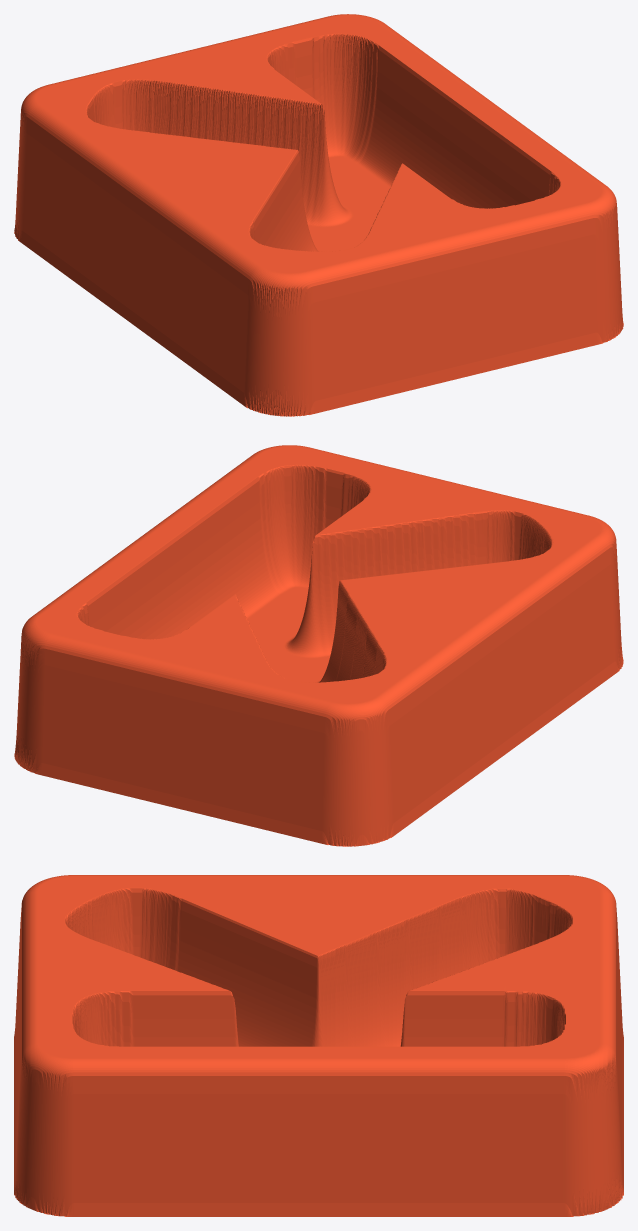
The model's file is mold.glb.
3 renders of one model, top to bottom at view 1: azimuth 30°, elevation 25°; view 2: azimuth 150°, elevation 25°; view 3: azimuth 270°, elevation 25°, orthographic. The views are drawn at different scales.
Visible parts, largest first — view 1: geometry_0; view 2: geometry_0; view 3: geometry_0.
Boxes of the visible parts, x1,y1,x2,y2 form: geometry_0: [14, 14, 623, 416]; geometry_0: [14, 445, 623, 846]; geometry_0: [14, 875, 623, 1216].
Bounding box in the file's own units: 0.0724 × 0.0248 × 0.0924.
